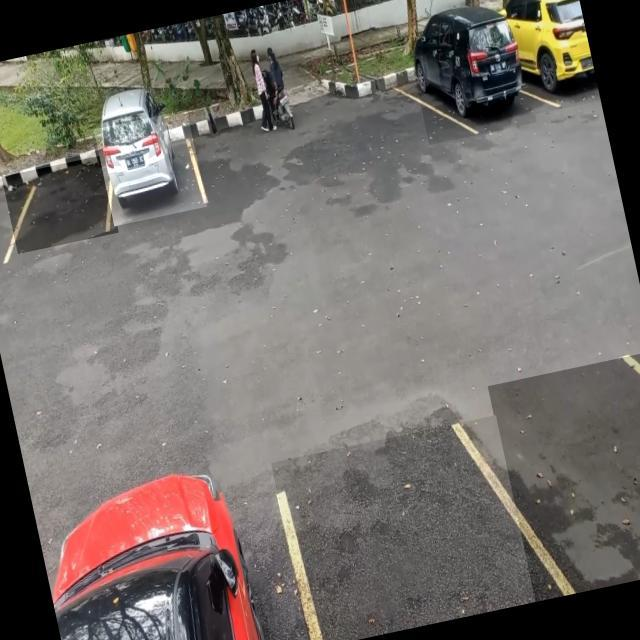empty: (270, 414, 535, 640), (487, 350, 640, 602), (1, 154, 118, 253)
occupied: (408, 19, 536, 144), (94, 109, 206, 226), (510, 0, 600, 114)
